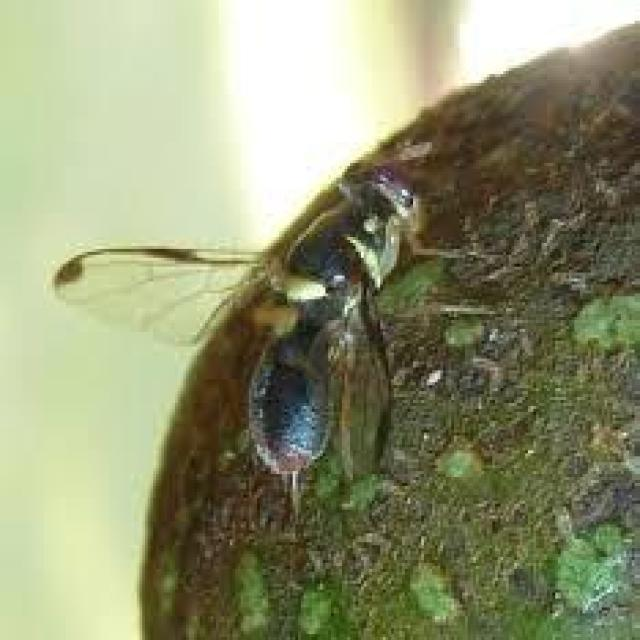Anthracnose: (58, 24, 638, 637)
